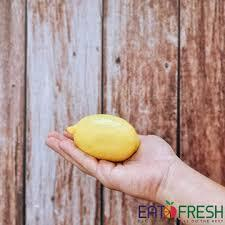lemon: (67, 114, 139, 161)
